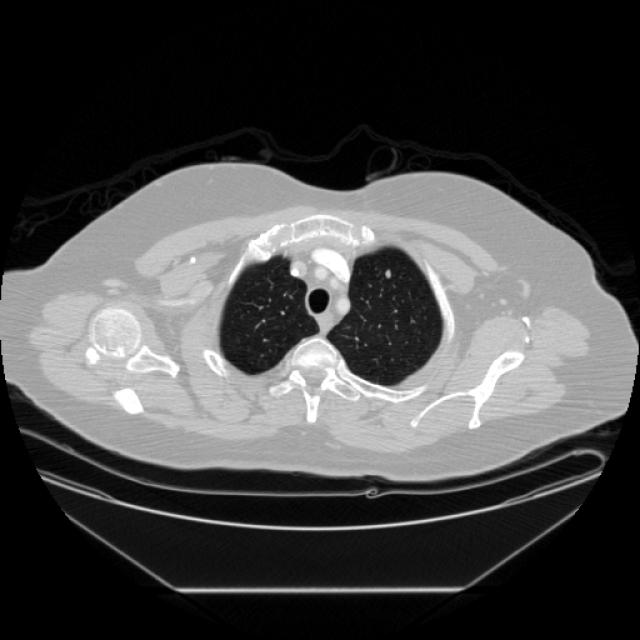nodule: (375, 261, 397, 284)
